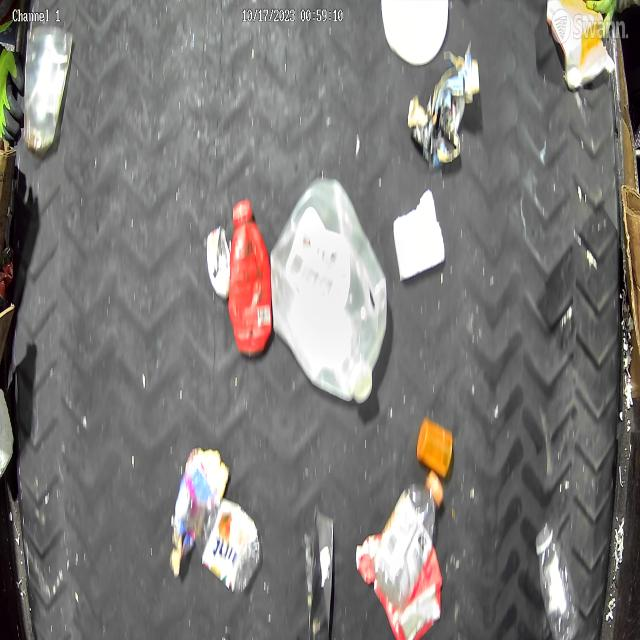milk_jug: (269, 179, 386, 407)
non_white_jug: (229, 196, 274, 359)
plastic_bottle: (375, 471, 443, 607), (534, 519, 583, 637)
